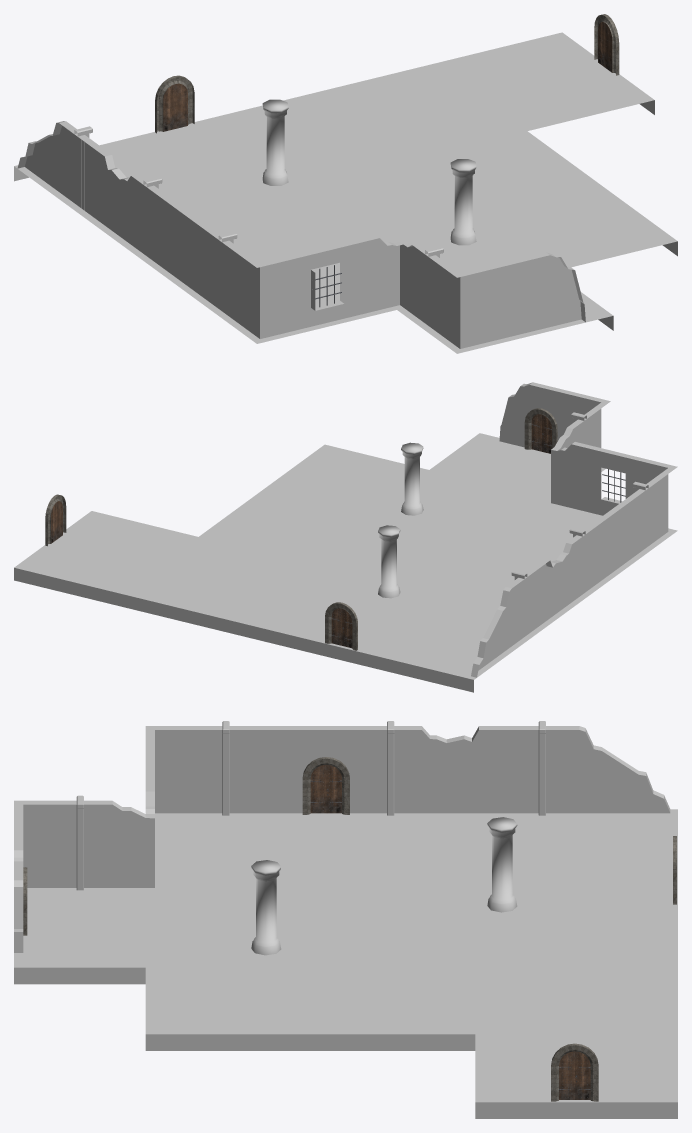
Rendered from def010_room.fbx.
3 renders of one model, top to bottom at view 1: azimuth 30°, elevation 25°; view 2: azimuth 150°, elevation 25°; view 3: azimuth 270°, elevation 25°, orthographic. The views are drawn at different scales.
Parts seen in each view (by area): view 1: def010_floor, wall010_1, pillar_002.001, pillar_002.021, door_wood.039, door_stone.039, door_stone.038, door_wood.038; view 2: def010_floor, wall010_1, pillar_002.021, pillar_002.001, door_wood.039, door_wood.037, door_stone.039, door_stone.037, door_stone.038; view 3: def010_floor, wall010_1, pillar_002.021, pillar_002.001, door_wood.040, door_wood.038, door_stone.038, door_stone.040, pillar_001.061, pillar_001.062, pillar_001.063, pillar_001.064.
Part boxes in pixels (x1,y1,x2,y2): def010_floor: (14,32,677,353); wall010_1: (17,121,585,348); pillar_002.001: (450,159,476,245); pillar_002.021: (262,99,288,185); door_wood.039: (163,83,187,131); door_stone.039: (155,75,194,133); door_stone.038: (594,14,619,75); door_wood.038: (598,22,612,72); def010_floor: (14,433,677,692); wall010_1: (471,382,677,677); pillar_002.021: (378,525,400,598); pillar_002.001: (401,442,423,515); door_wood.039: (331,608,352,648); door_wood.037: (531,414,551,453); door_stone.039: (325,602,357,650); door_stone.037: (524,408,557,449); door_stone.038: (45,494,66,546); def010_floor: (14,809,677,1118); wall010_1: (14,726,670,952); pillar_002.021: (487,817,517,912); pillar_002.001: (251,860,281,955); door_wood.040: (310,764,341,813); door_wood.038: (559,1051,590,1099); door_stone.038: (551,1043,598,1101); door_stone.040: (302,757,349,814); pillar_001.061: (76,795,83,890); pillar_001.062: (222,721,229,815); pillar_001.063: (387,721,394,815); pillar_001.064: (538,721,545,815).
Size of the model in its own units: 3770 by 629 by 3610.
